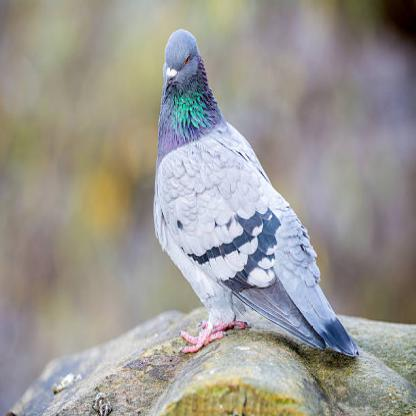Rock Pigeon: (153, 27, 362, 359)
